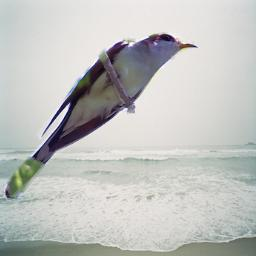Cuckoo: (4, 32, 198, 199)
